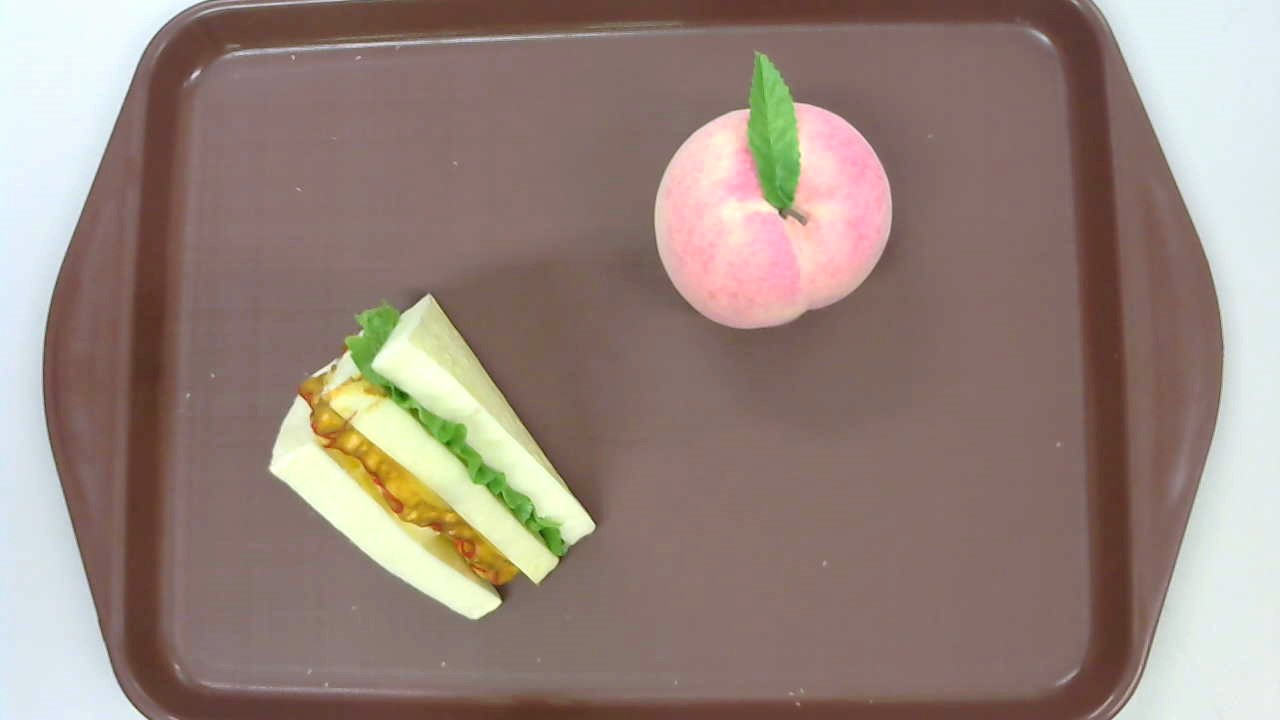peach: (653, 50, 892, 330)
sandwich: (269, 292, 599, 620)
